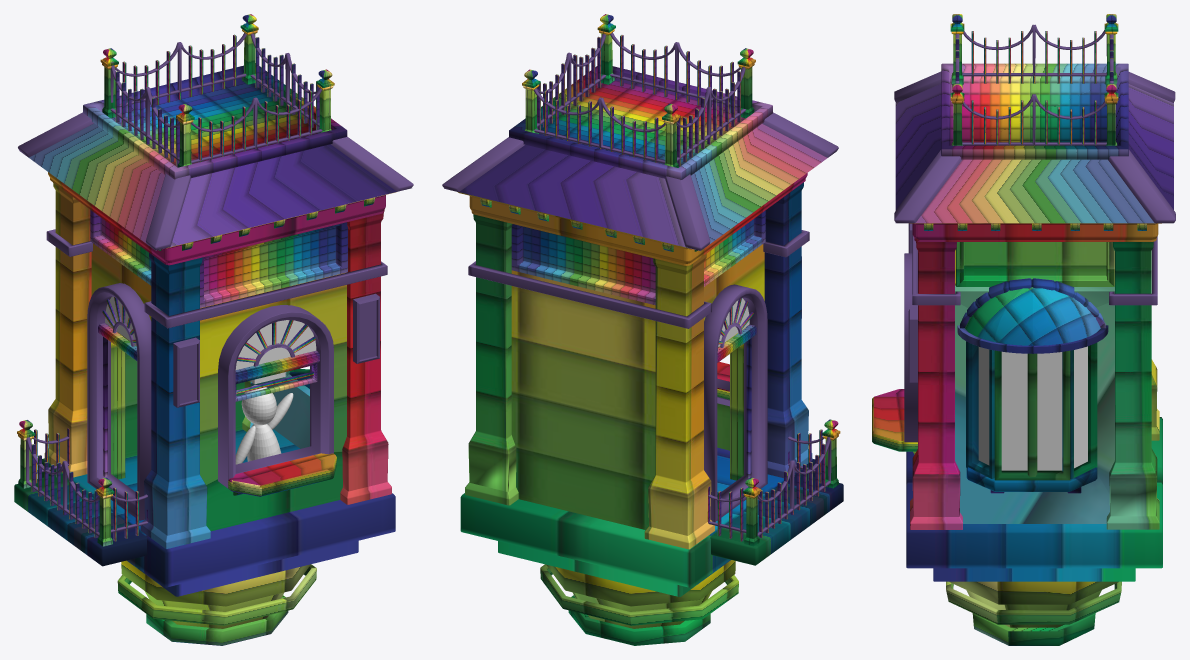
The model's file is cafe.TESTTEXTURE.glb.
The picture shows the model from 3 angles, left to right: view 1: azimuth 30°, elevation 25°; view 2: azimuth 150°, elevation 25°; view 3: azimuth 270°, elevation 25°; orthographic projection.
Visible parts, largest first — view 1: mesh_teto, mesh_wall_main, mesh_pillars.001, mesh_floor, mesh_wall_door, mesh_motor, mesh_pillars, mesh_char_low, mesh_wall_left.003, mesh_glass_main, mesh_linkedin_low, mesh_artstation_low; view 2: mesh_teto, mesh_pillars, mesh_pillars.001, mesh_floor, mesh_wall_door, mesh_motor, mesh_wall_main; view 3: mesh_teto, mesh_wall_left.003, mesh_pillars.001, mesh_floor, mesh_glass_left, mesh_motor, mesh_wall_main, mesh_pillars, mesh_linkedin_low.
Part boxes in pixels (<box>): mesh_teto: <box>18,14,413,265</box>; mesh_wall_main: <box>200,222,347,531</box>; mesh_pillars.001: <box>44,182,391,548</box>; mesh_floor: <box>14,420,395,596</box>; mesh_wall_door: <box>87,210,151,520</box>; mesh_motor: <box>117,560,316,645</box>; mesh_pillars: <box>46,229,387,457</box>; mesh_char_low: <box>235,385,293,464</box>; mesh_wall_left.003: <box>272,368,309,448</box>; mesh_glass_main: <box>235,320,316,369</box>; mesh_linkedin_low: <box>353,293,379,363</box>; mesh_artstation_low: <box>173,337,199,407</box>; mesh_teto: <box>442,14,838,265</box>; mesh_pillars: <box>468,224,809,529</box>; mesh_pillars.001: <box>465,182,812,549</box>; mesh_floor: <box>460,419,843,596</box>; mesh_wall_door: <box>704,210,767,521</box>; mesh_motor: <box>540,560,738,645</box>; mesh_wall_main: <box>717,361,729,450</box>; mesh_teto: <box>894,14,1175,241</box>; mesh_wall_left.003: <box>955,242,1114,523</box>; mesh_pillars.001: <box>910,238,1159,529</box>; mesh_floor: <box>906,417,1162,581</box>; mesh_glass_left: <box>978,346,1087,470</box>; mesh_motor: <box>946,581,1121,645</box>; mesh_wall_main: <box>872,253,917,454</box>; mesh_pillars: <box>912,224,1157,305</box>; mesh_linkedin_low: <box>908,308,917,382</box>.
Bounding box in the file's own units: 0.533 × 0.9331 × 0.4522.
Materials: 2 (1 with a texture image).
